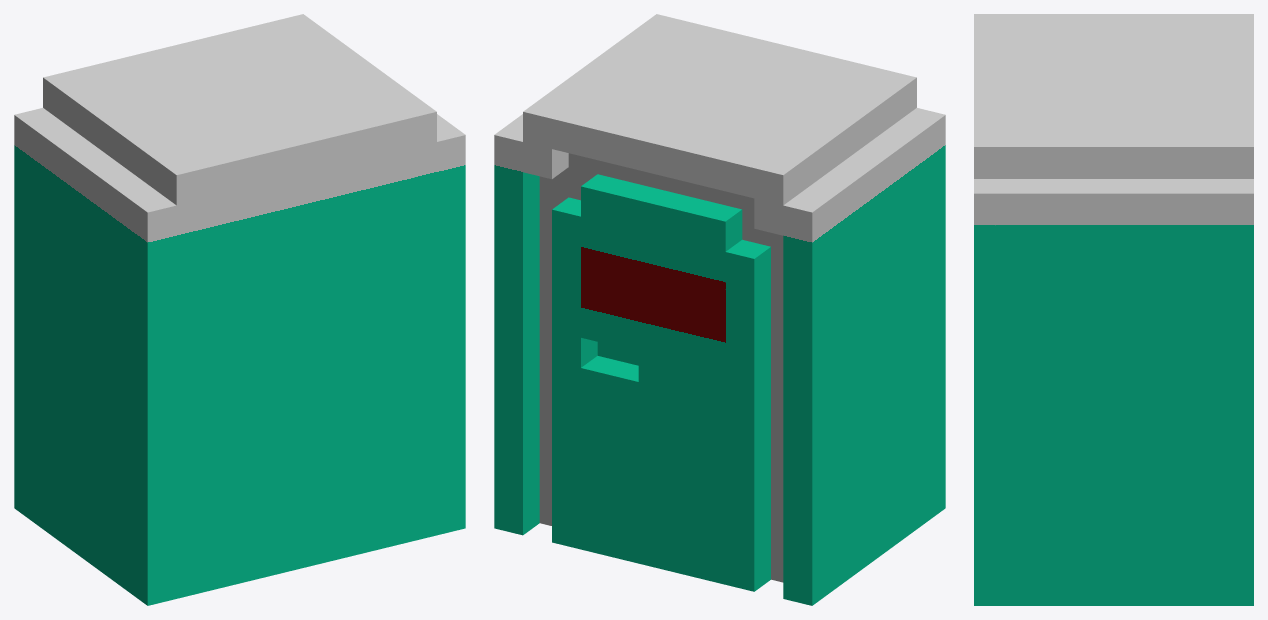
The model's file is obj_potty1.fbx.
3 renders of one model, left to right at view 1: azimuth 30°, elevation 25°; view 2: azimuth 150°, elevation 25°; view 3: azimuth 270°, elevation 25°, orthographic. The views are drawn at different scales.
Parts seen in each view (by area): view 1: obj_potty1; view 2: obj_potty1; view 3: obj_potty1.
Boxes of the visible parts, x1,y1,x2,y2 form: obj_potty1: (14,14,465,605); obj_potty1: (494,14,945,605); obj_potty1: (974,14,1253,605).
Bounding box in the file's own units: 1.1 × 0.8 × 1.4.
1 material, 1 textured.
